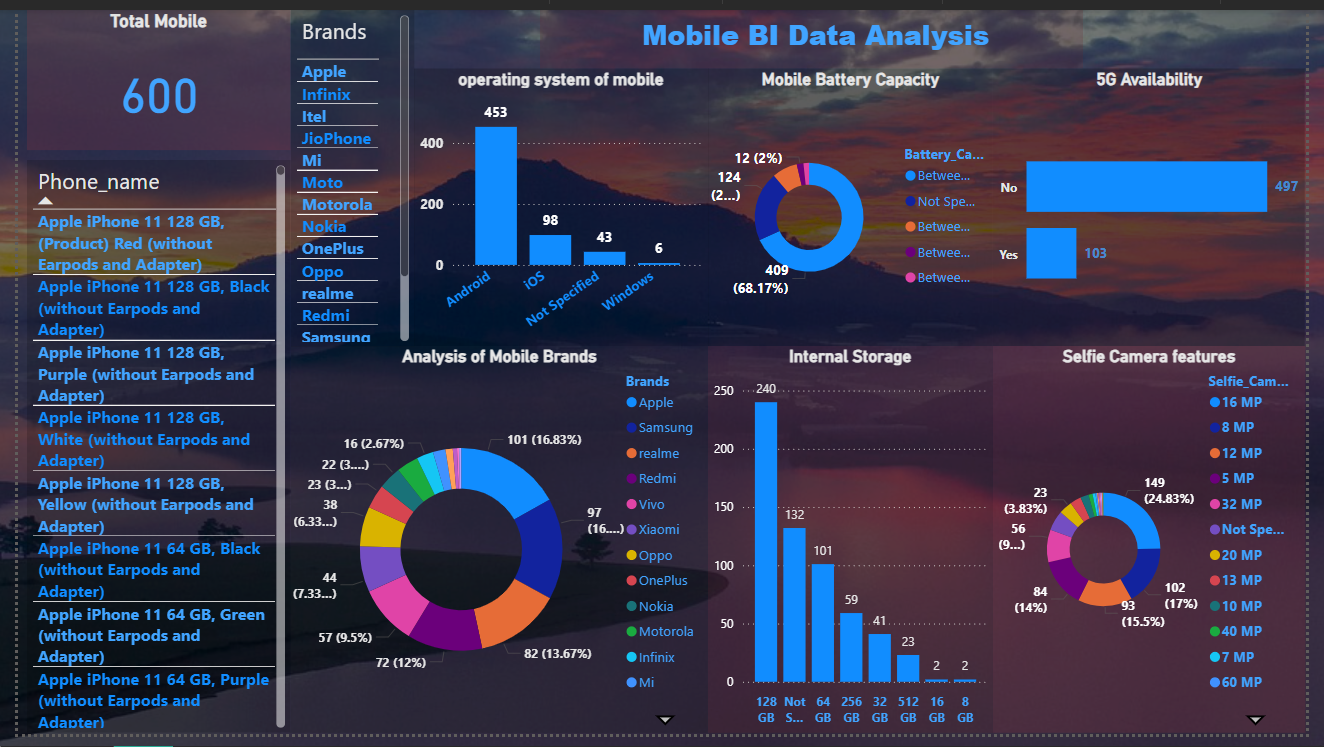

Layout of this report page (visuals, bound fields, positions):
{"tool":"powerbi","page":{"name":"Page 1","canvas":[1280,720],"ordinal":0},"visuals":[{"type":"card","title":"Total Mobile","fields":{"Values":["Sum(phonedata mobile.Total_Mobile)"]},"box":[9.1,0,262,139.3],"z":0},{"type":"tableEx","fields":{"Values":["phonedata mobile.Phone_name"]},"box":[9.1,149.9,262,569.3],"z":1000},{"type":"tableEx","fields":{"Values":["phonedata mobile.Brands"]},"box":[271,0,122.7,334.6],"z":2000},{"type":"donutChart","title":"Mobile Battery Capacity","fields":{"Y":["Sum(phonedata mobile.Total_Mobile)"],"Category":["phonedata mobile.Battery_Capacity_Range"]},"box":[686.2,58.2,283.4,276],"z":3000},{"type":"clusteredColumnChart","title":"operating system of mobile","fields":{"Category":["phonedata mobile.Operating_System_Type"],"Y":["Sum(phonedata mobile.Total_Mobile)"]},"box":[393.8,58.2,292.4,276],"z":4000},{"type":"barChart","title":"5G Availability","fields":{"Y":["Sum(phonedata mobile.Total_Mobile)"],"Category":["phonedata mobile.5G_Availability"]},"box":[969.6,58.2,310.3,276],"z":5000},{"type":"donutChart","title":"Analysis of Mobile Brands","fields":{"Category":["phonedata mobile.Brands"],"Y":["Sum(phonedata mobile.Total_Mobile)"]},"box":[271,334.6,414.9,384.6],"z":6000},{"type":"columnChart","title":"Internal Storage","fields":{"Category":["phonedata mobile.Internal_Storage"],"Y":["Sum(phonedata mobile.Total_Mobile)"]},"box":[685.9,334.6,283.2,384.6],"z":7000},{"type":"donutChart","title":"Selfie Camera features","fields":{"Category":["phonedata mobile.Selfie_Camera"],"Y":["Sum(phonedata mobile.Total_Mobile)"]},"box":[969.1,334.6,310.4,384.6],"z":8000},{"type":"textbox","box":[519.1,0,540,58.2],"z":9000}]}

Visuals, with their boxes in screenshot pixels (x1, y1, x2, y2), scaled from the page's 1280x720 canvas onto the 1324x747 screenshot:
"Total Mobile" card: [x1=9, y1=0, x2=280, y2=145]
tableEx - phonedata mobile.Phone_name: [x1=9, y1=156, x2=280, y2=746]
tableEx - phonedata mobile.Brands: [x1=280, y1=0, x2=407, y2=347]
"Mobile Battery Capacity" donutChart: [x1=710, y1=60, x2=1003, y2=347]
"operating system of mobile" clusteredColumnChart: [x1=407, y1=60, x2=710, y2=347]
"5G Availability" barChart: [x1=1003, y1=60, x2=1323, y2=347]
"Analysis of Mobile Brands" donutChart: [x1=280, y1=347, x2=709, y2=746]
"Internal Storage" columnChart: [x1=709, y1=347, x2=1002, y2=746]
"Selfie Camera features" donutChart: [x1=1002, y1=347, x2=1323, y2=746]
textbox: [x1=537, y1=0, x2=1096, y2=60]
